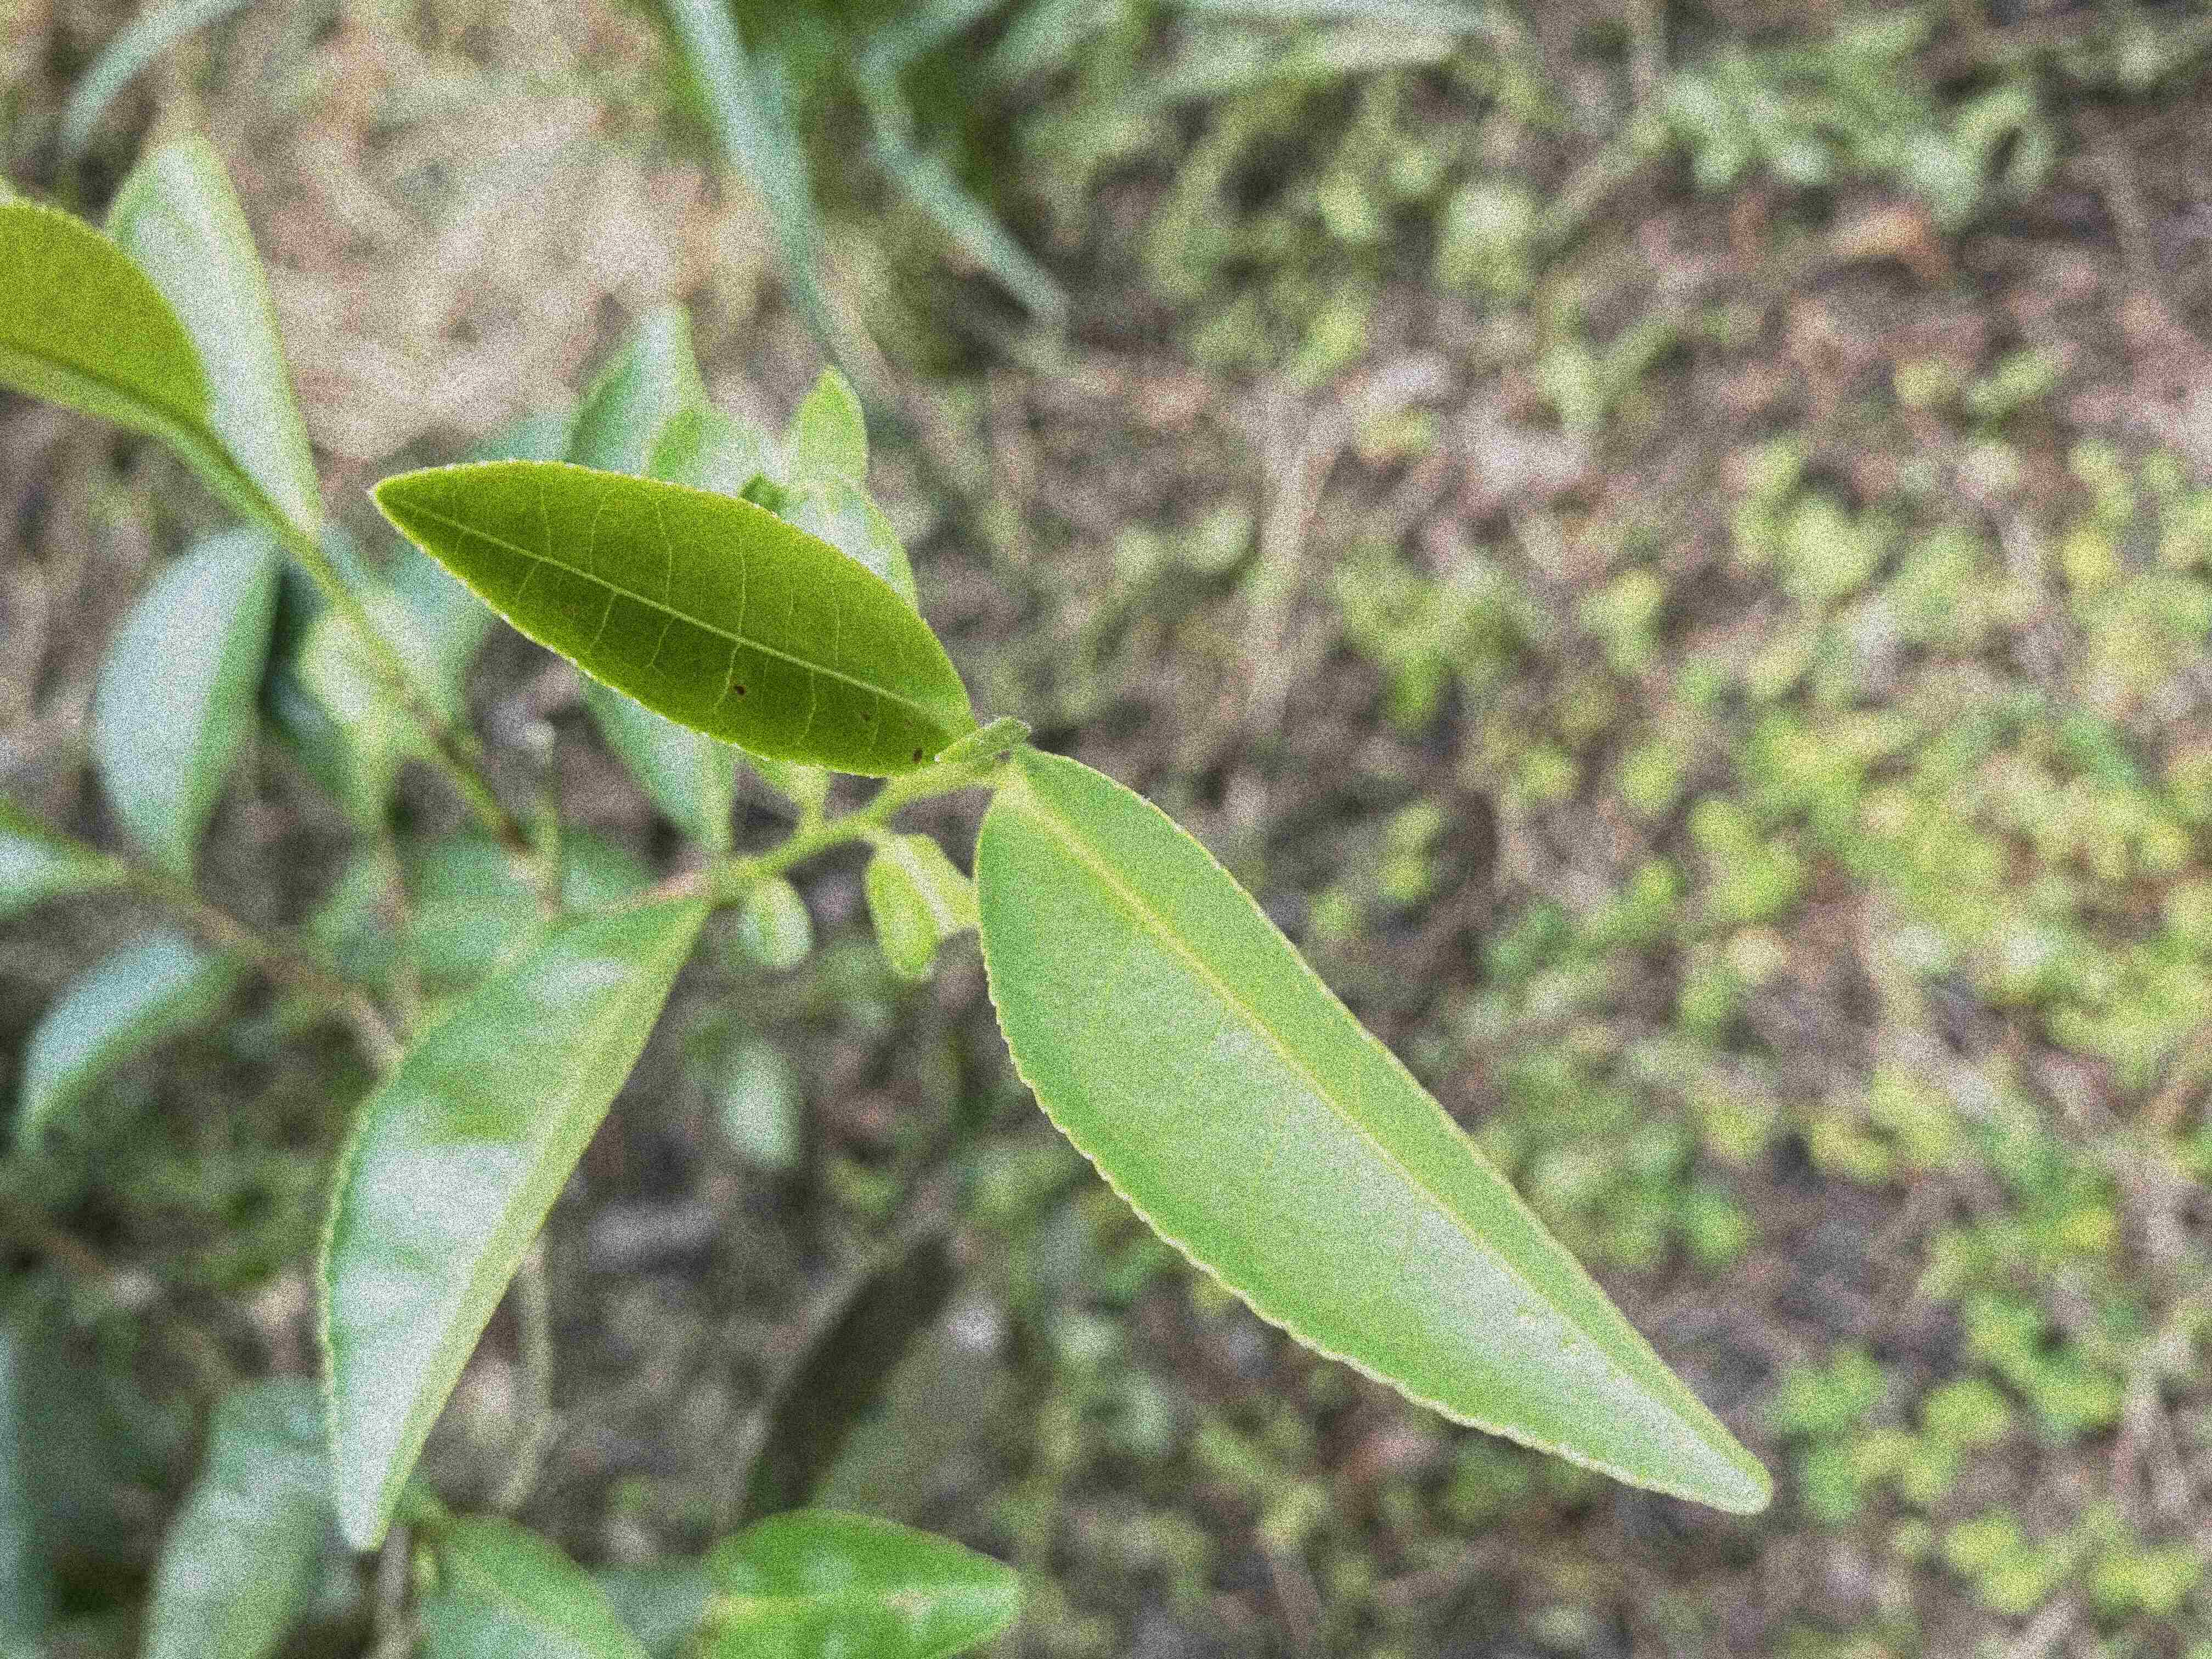healthy: (970, 741, 1771, 1514), (312, 903, 709, 1549)
tanju_low: (374, 458, 977, 781)
